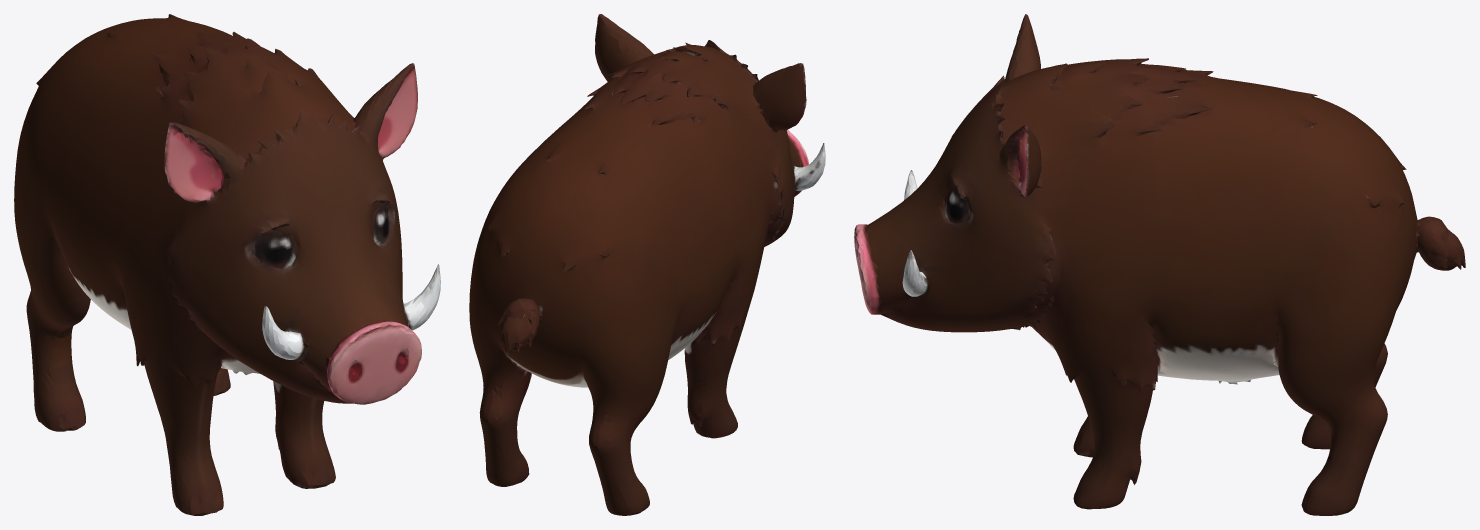
The model's file is boar.glb.
The picture shows the model from 3 angles, left to right: view 1: azimuth 30°, elevation 25°; view 2: azimuth 150°, elevation 25°; view 3: azimuth 270°, elevation 25°; orthographic projection. The views are drawn at different scales.
Parts seen in each view (by area): view 1: boar; view 2: boar; view 3: boar.
Boxes of the visible parts, x1,y1,x2,y2 form: boar: (14, 14, 440, 515); boar: (469, 14, 825, 515); boar: (854, 14, 1465, 515).
Size of the model in its own units: 0.8604 by 1.41 by 1.9.
Materials: 1 (1 with a texture image).
